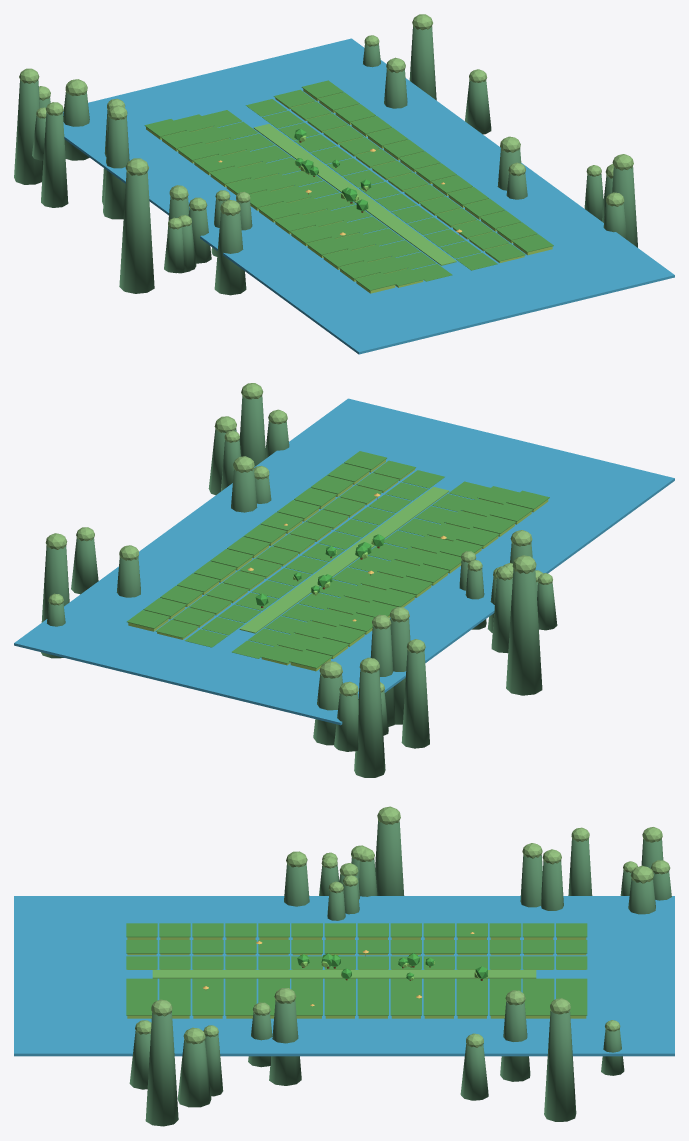
3 views of the same model, one above another, from view 1: azimuth 30°, elevation 25°; view 2: azimuth 150°, elevation 25°; view 3: azimuth 270°, elevation 25° (orthographic). The views are drawn at different scales.
Visible parts, largest first — view 1: Ground, Karst_25, Dike, Karst_20, Karst_17, Karst_9, Karst_15, Karst_24, Karst_23, Karst_18, Karst_8, Karst_0 (+11 smaller); view 2: Ground, Karst_25, Dike, Karst_20, Karst_17, Karst_23, Karst_24, Karst_18, Karst_9, Karst_10, Karst_11, Karst_3 (+9 smaller); view 3: Ground, Karst_23, Dike, Karst_24, Karst_25, Karst_16, Karst_6, Karst_0, Karst_8, Karst_17, Karst_9, Karst_11 (+48 smaller).
Boxes of the visible parts, x1=… form: Ground: x1=63, y1=38, x2=674, y2=354; Karst_25: x1=119, y1=158, x2=154, y2=293; Dike: x1=253, y1=124, x2=456, y2=265; Karst_20: x1=14, y1=68, x2=43, y2=184; Karst_17: x1=41, y1=102, x2=68, y2=207; Karst_9: x1=103, y1=105, x2=129, y2=219; Karst_15: x1=214, y1=199, x2=246, y2=295; Karst_24: x1=409, y1=14, x2=436, y2=100; Karst_23: x1=612, y1=154, x2=637, y2=247; Karst_18: x1=63, y1=79, x2=89, y2=160; Karst_8: x1=465, y1=69, x2=491, y2=134; Karst_0: x1=384, y1=57, x2=407, y2=108; Ground: x1=14, y1=398, x2=674, y2=725; Karst_25: x1=506, y1=555, x2=542, y2=695; Dike: x1=239, y1=486, x2=449, y2=633; Karst_20: x1=354, y1=657, x2=385, y2=777; Karst_17: x1=401, y1=639, x2=429, y2=748; Karst_23: x1=239, y1=383, x2=266, y2=466; Karst_24: x1=41, y1=533, x2=69, y2=658; Karst_18: x1=313, y1=661, x2=342, y2=745; Karst_9: x1=389, y1=607, x2=410, y2=724; Karst_10: x1=334, y1=681, x2=358, y2=751; Karst_11: x1=370, y1=614, x2=395, y2=726; Karst_3: x1=491, y1=566, x2=512, y2=653; Ground: x1=14, y1=896, x2=674, y2=1056; Karst_23: x1=145, y1=999, x2=178, y2=1126; Dike: x1=152, y1=970, x2=536, y2=978; Karst_24: x1=544, y1=998, x2=576, y2=1121; Karst_25: x1=375, y1=806, x2=404, y2=895; Karst_16: x1=269, y1=988, x2=301, y2=1085; Karst_6: x1=177, y1=1027, x2=211, y2=1107; Karst_0: x1=500, y1=990, x2=530, y2=1081; Karst_8: x1=460, y1=1033, x2=488, y2=1100; Karst_17: x1=568, y1=827, x2=592, y2=895; Karst_9: x1=520, y1=843, x2=542, y2=907; Karst_11: x1=541, y1=849, x2=563, y2=910.
Bounding box in the file's own units: 91.44 × 26.9 × 124.
